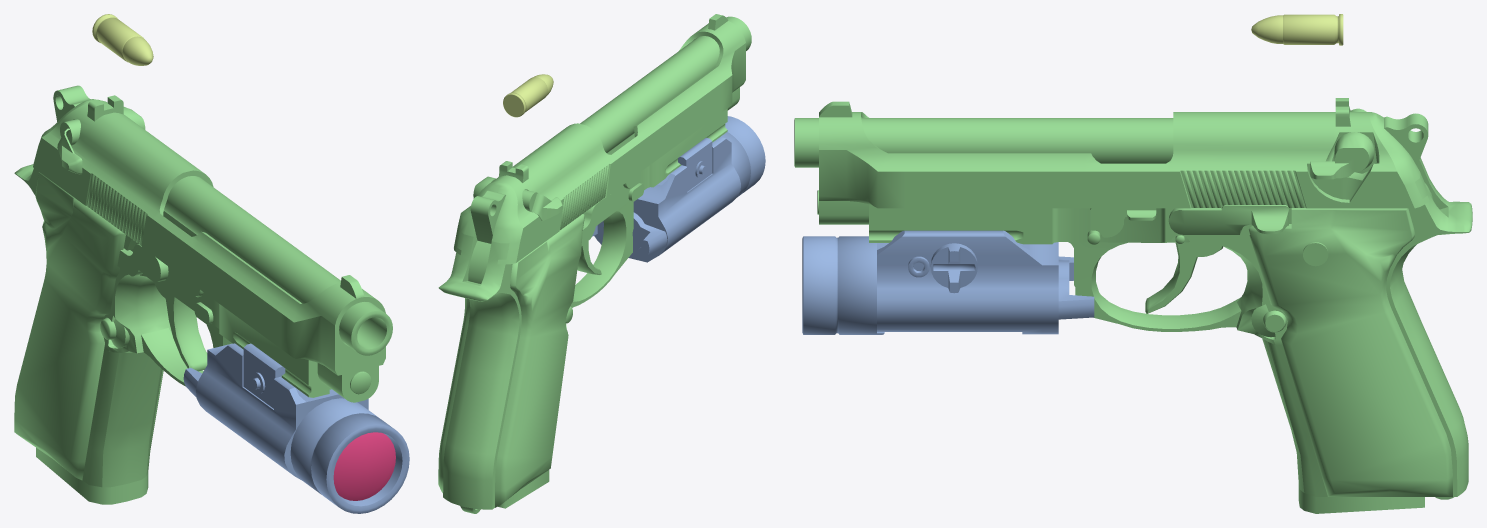
Rendered from WPN_M9.FBX.
The picture shows the model from 3 angles, left to right: view 1: azimuth 30°, elevation 25°; view 2: azimuth 150°, elevation 25°; view 3: azimuth 270°, elevation 25°; orthographic projection. The views are drawn at different scales.
Visible parts, largest first — view 1: WPN_M9, WPN_M9_Slide, WPN_PistolFlashLight, WPN_M9_barrel, WPN_PistolFlashLight_lense, WPN_M9_trigger, cal_9mm, WPN_M9_magazine, WPN_M9_Hammer; view 2: WPN_M9, WPN_M9_Slide, WPN_PistolFlashLight, WPN_M9_barrel, WPN_M9_Hammer, cal_9mm, WPN_M9_magazine, WPN_M9_trigger; view 3: WPN_M9, WPN_M9_Slide, WPN_PistolFlashLight, WPN_M9_barrel, cal_9mm, WPN_M9_magazine, WPN_M9_trigger, WPN_M9_Hammer.
Part boxes in pixels (x1,y1,x2,y2): WPN_M9: (14,164,371,487); WPN_M9_Slide: (33,95,385,402); WPN_PistolFlashLight: (183,343,409,513); WPN_M9_barrel: (164,176,392,355); WPN_PistolFlashLight_lense: (333,432,395,500); WPN_M9_trigger: (154,282,207,371); cal_9mm: (92,14,153,65); WPN_M9_magazine: (36,447,148,504); WPN_M9_Hammer: (53,85,90,121); WPN_M9: (438,108,727,513); WPN_M9_Slide: (454,14,745,264); WPN_PistolFlashLight: (592,116,765,262); WPN_M9_barrel: (580,16,751,152); WPN_M9_Hammer: (468,190,505,283); cal_9mm: (503,74,553,117); WPN_M9_magazine: (498,470,549,508); WPN_M9_trigger: (577,241,601,274); WPN_M9: (817,157,1472,499); WPN_M9_Slide: (819,98,1429,224); WPN_PistolFlashLight: (802,230,1094,334); WPN_M9_barrel: (794,118,1173,167); cal_9mm: (1251,14,1343,45); WPN_M9_magazine: (1298,483,1424,513); WPN_M9_trigger: (1145,242,1223,313); WPN_M9_Hammer: (1384,113,1433,200).
Size of the model in its own units: 4.16 by 17.33 by 21.99.
